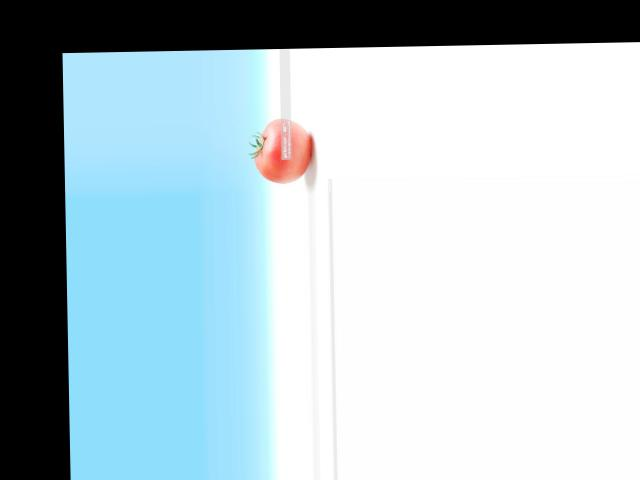tomato: (253, 117, 310, 183)
